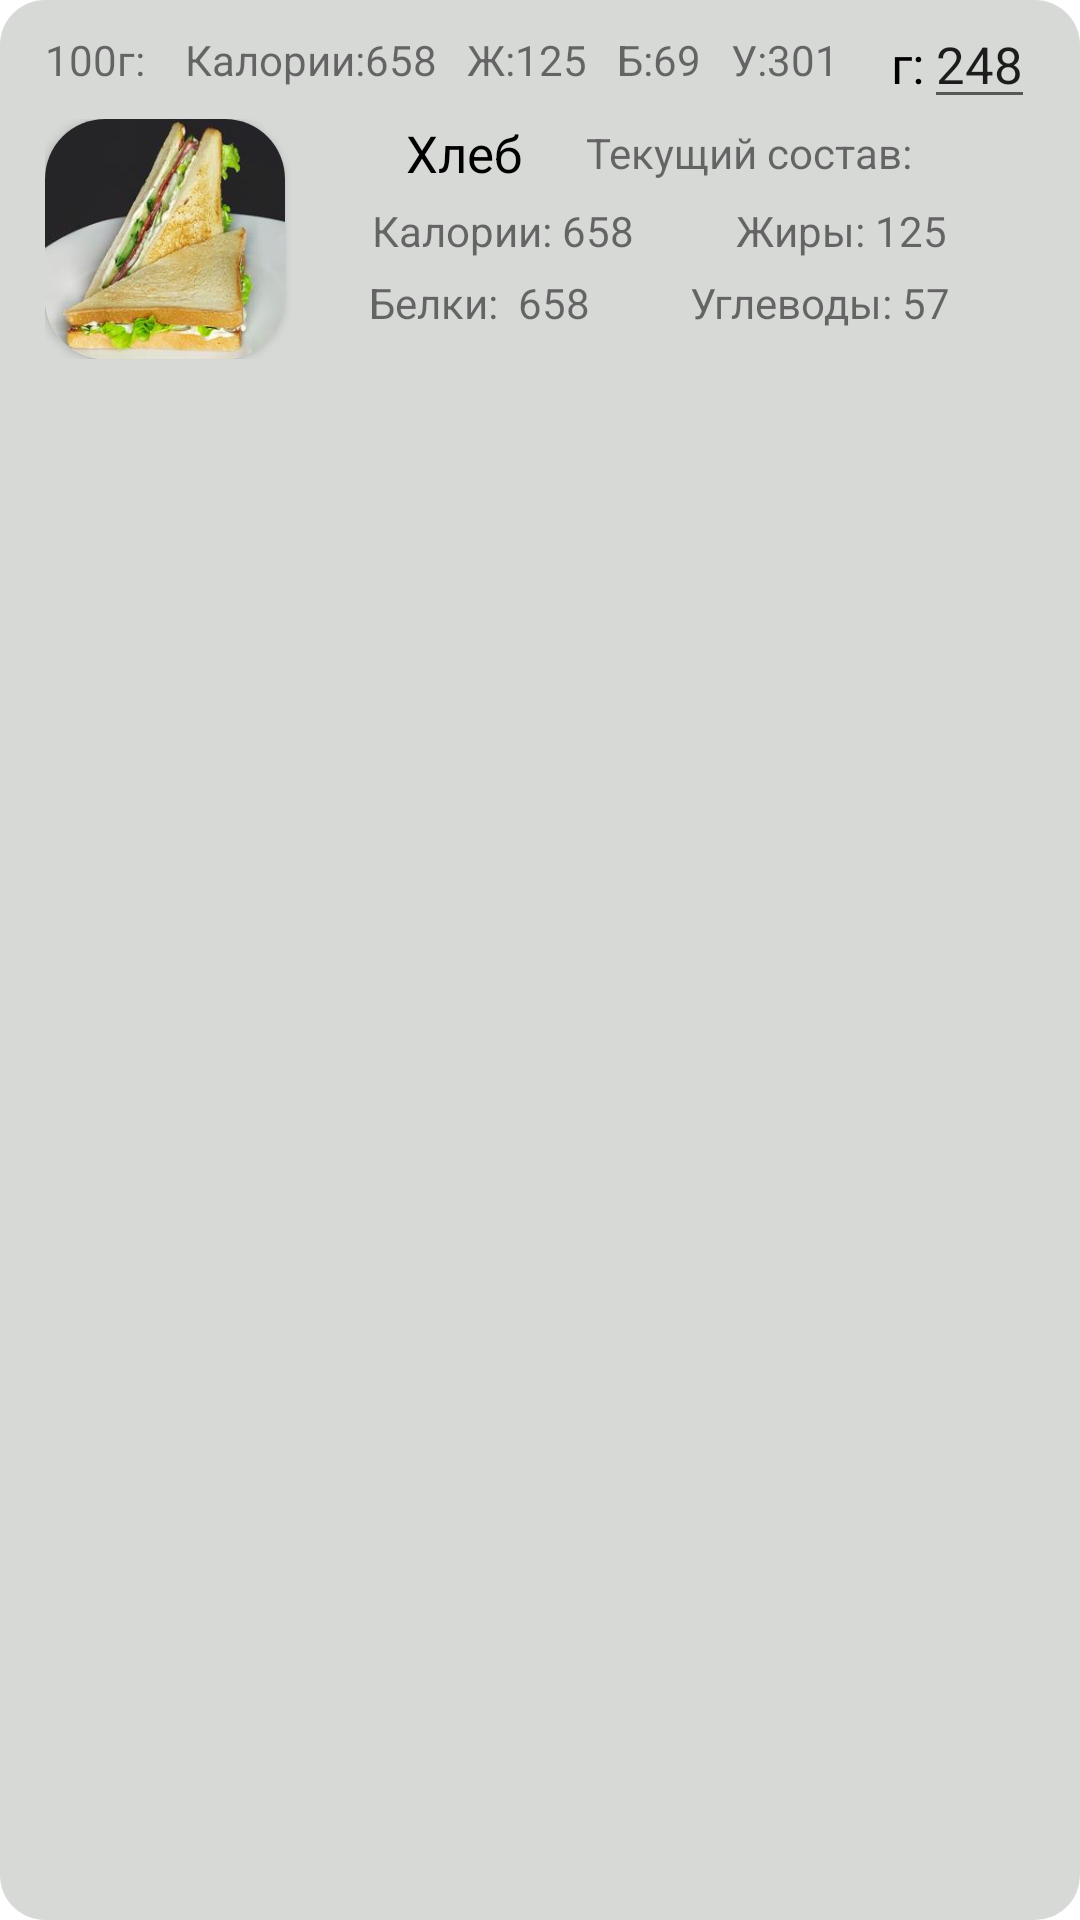

Screen size 1080 x 1920. Icon name, then its center in pixels as [x,y]:
sandwitch: [165,239]
